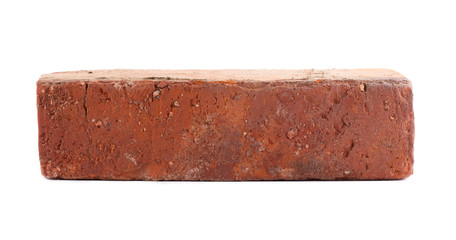brick: (38, 79, 414, 181)
